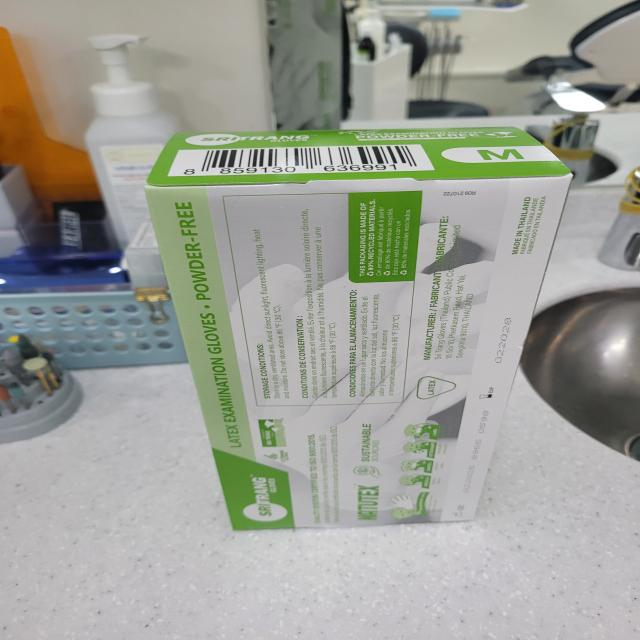glove: (117, 110, 581, 566)
